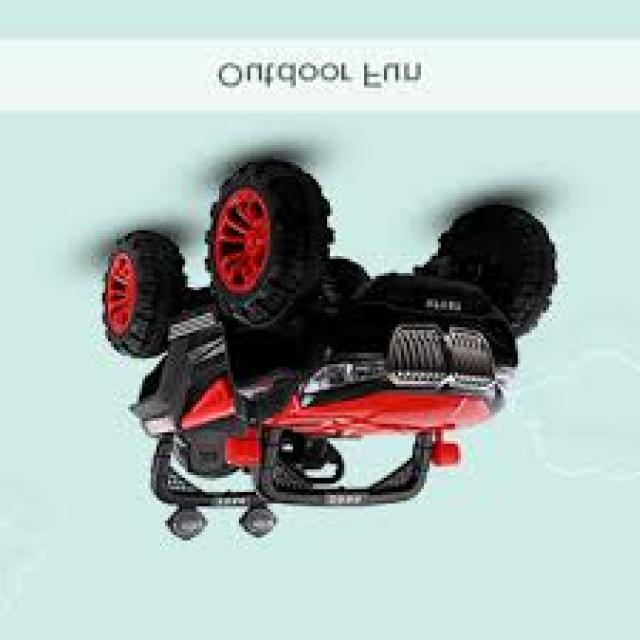Car: (100, 160, 558, 544)
